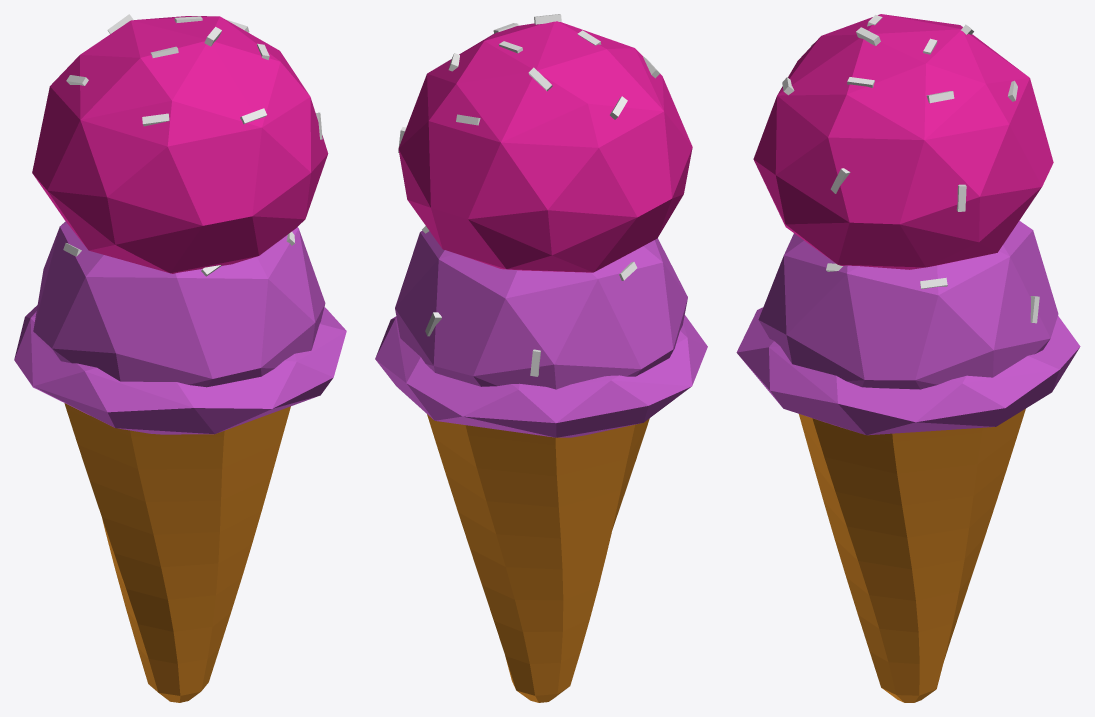
The model's file is icecream1.fbx.
The picture shows the model from 3 angles, left to right: view 1: azimuth 30°, elevation 25°; view 2: azimuth 150°, elevation 25°; view 3: azimuth 270°, elevation 25°; orthographic projection.
Parts seen in each view (by area): view 1: IceCream_2; view 2: IceCream_2; view 3: IceCream_2.
Boxes of the visible parts, x1=… form: IceCream_2: x1=14, y1=14, x2=346, y2=702; IceCream_2: x1=375, y1=14, x2=707, y2=702; IceCream_2: x1=736, y1=14, x2=1080, y2=702.
Bounding box in the file's own units: 72.96 × 157 × 72.96.
